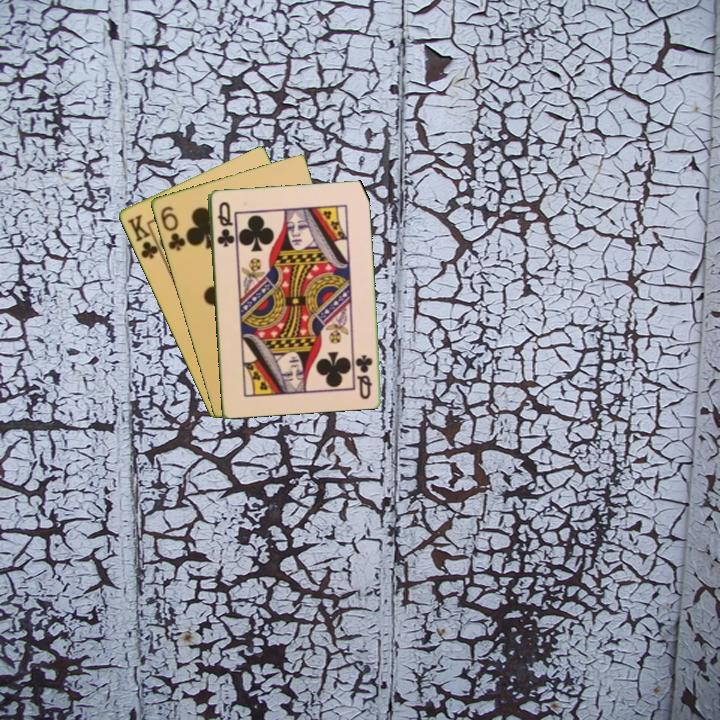6c: (157, 202, 188, 253)
Kc: (123, 210, 164, 262)
Qc: (213, 198, 236, 250), (353, 351, 375, 402)
